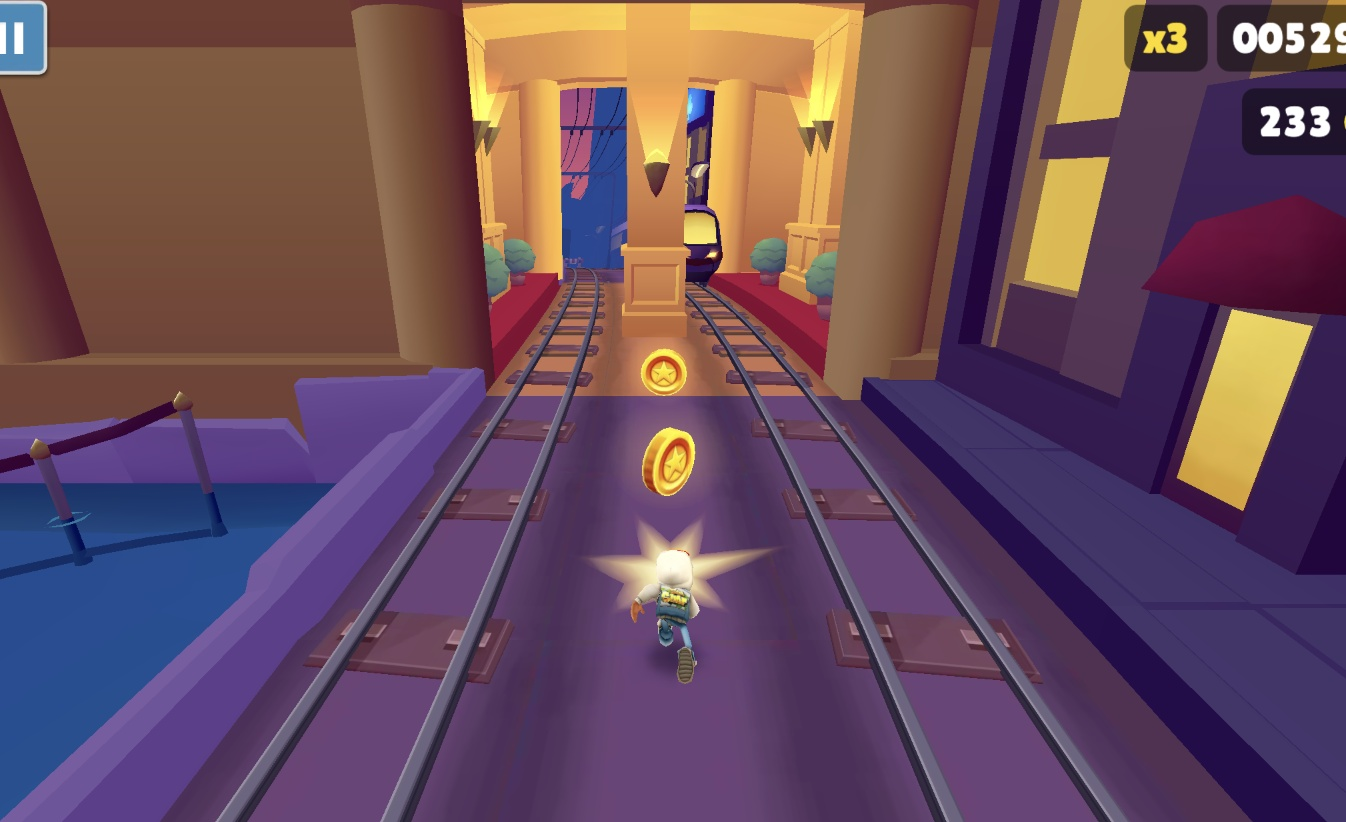pillar: (624, 0, 688, 332)
train: (686, 206, 724, 288)
